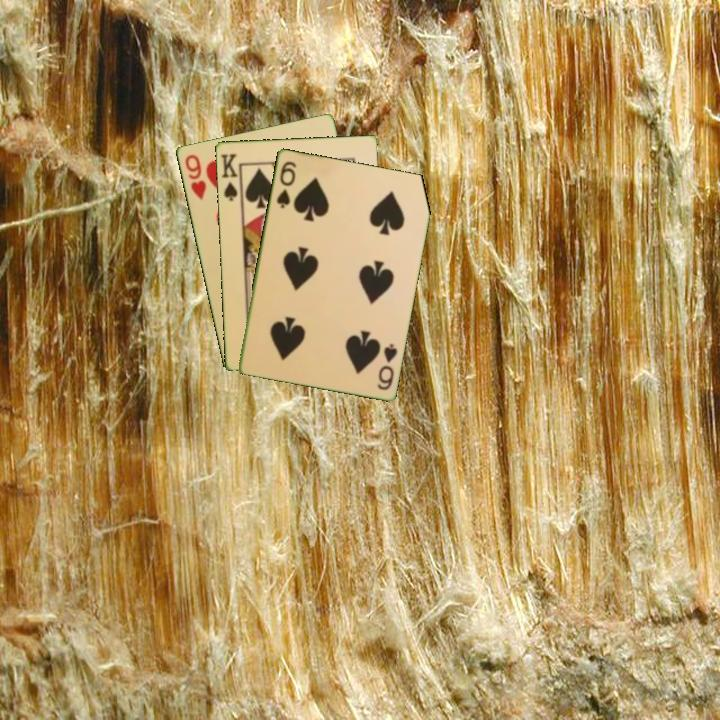6s: (272, 157, 299, 211), (373, 340, 400, 393)
9h: (181, 151, 209, 202)
Ks: (217, 150, 243, 203)
